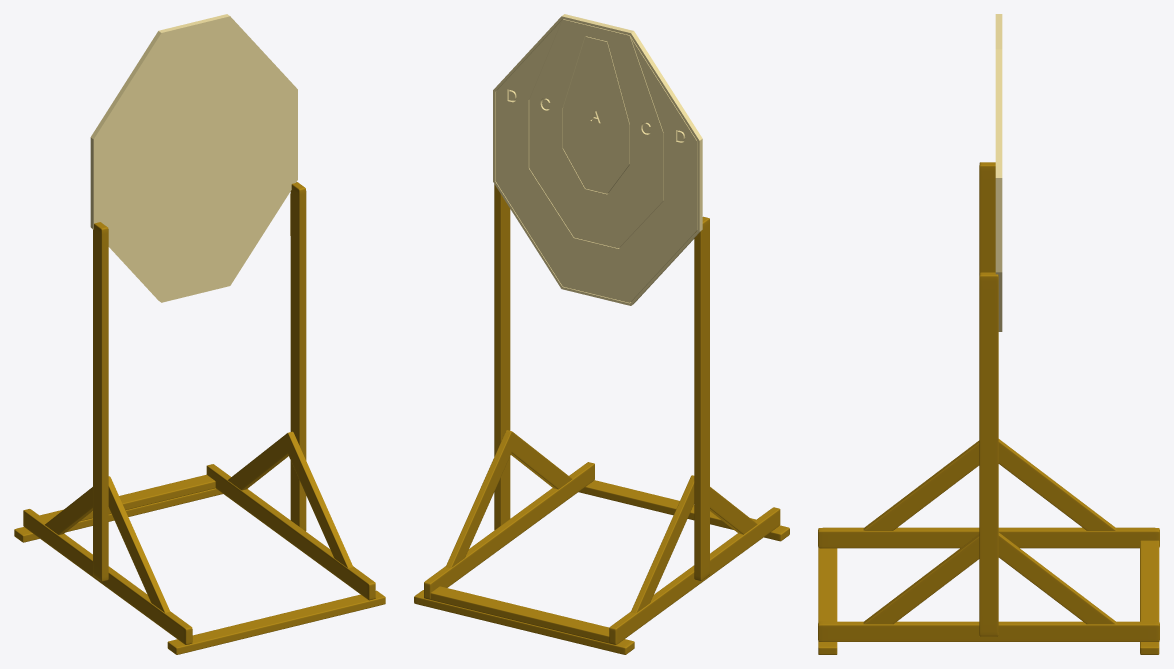
File: ipsc_target_fbx.fbx
The picture shows the model from 3 angles, left to right: view 1: azimuth 30°, elevation 25°; view 2: azimuth 150°, elevation 25°; view 3: azimuth 270°, elevation 25°; orthographic projection. The views are drawn at different scales.
Parts seen in each view (by area): view 1: TargetMain, Box002, Box005, Box008, Box001, Box014, Box007, Box004, Box012, Box006, Box013, Box003; view 2: TargetMain, Box002, Box005, Box008, Box001, Box012, Box006, Box014, Box003, Box013, Box007, Box004; view 3: Box005, Box008, Box001, Box006, Box003, Box007, Box004, TargetMain, Box002, Box014, Box012.
Part boxes in pixels (x1,y1,x2,y2): TargetMain: (90,14,297,302); Box002: (93,222,108,581); Box005: (290,182,306,531); Box008: (206,464,375,600); Box001: (23,509,192,644); Box014: (167,590,385,654); Box007: (286,432,352,568); Box004: (108,476,169,612); Box012: (40,474,215,521); Box006: (228,431,292,490); Box013: (14,488,222,542); Box003: (45,476,109,534); TargetMain: (493,14,702,305); Box002: (694,216,709,580); Box005: (494,184,510,529); Box008: (424,462,594,599); Box001: (609,507,780,644); Box012: (430,586,609,643); Box006: (445,430,514,567); Box014: (578,480,789,541); Box003: (631,475,694,613); Box013: (414,590,634,654); Box007: (507,430,572,489); Box004: (710,487,757,534); Box005: (979,272,998,636); Box008: (818,621,1159,641); Box001: (818,527,1159,548); Box006: (998,532,1116,624); Box003: (998,439,1116,530); Box007: (863,534,979,624); Box004: (863,440,979,530); TargetMain: (995,14,1002,331); Box002: (979,162,995,274); Box014: (818,548,837,654); Box012: (1140,540,1159,621).
Size of the model in its own units: 42.42 by 105 by 57.13.
